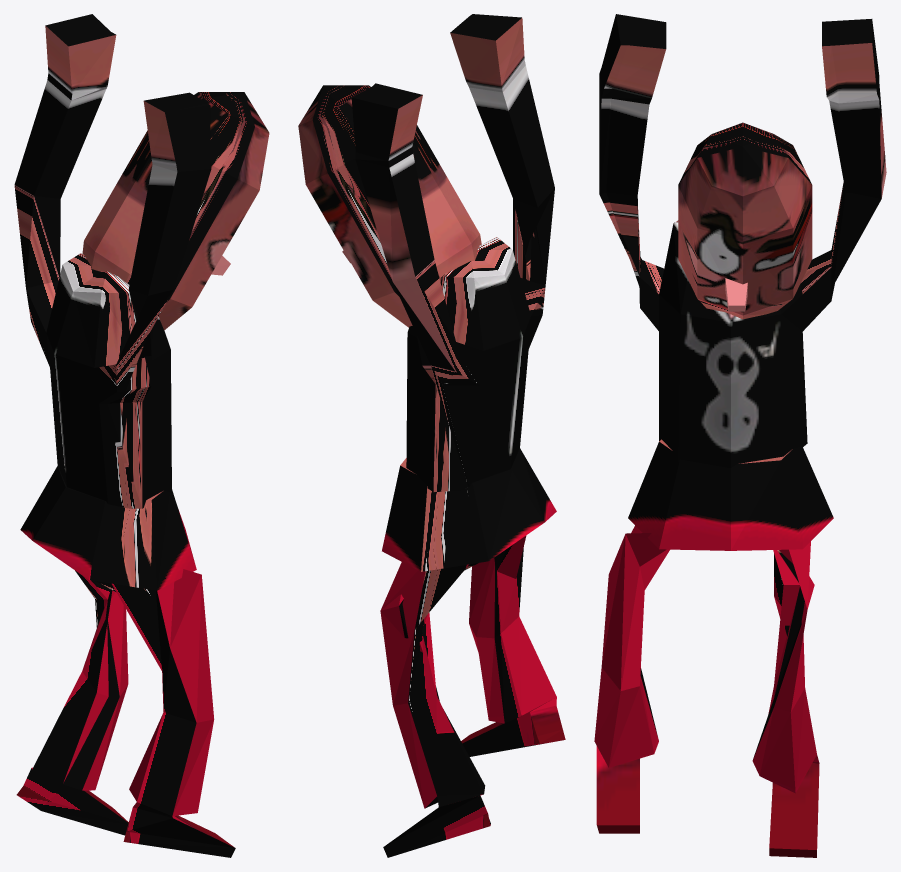
Rendered from BadLava1.glb.
The picture shows the model from 3 angles, left to right: view 1: azimuth 30°, elevation 25°; view 2: azimuth 150°, elevation 25°; view 3: azimuth 270°, elevation 25°; orthographic projection. The views are drawn at different scales.
Visible parts, largest first — view 1: BadLava1; view 2: BadLava1; view 3: BadLava1.
Part boxes in pixels (box(x1,y1,x2,y2)): BadLava1: box(14, 14, 269, 857); BadLava1: box(298, 14, 565, 857); BadLava1: box(594, 14, 886, 857).
Size of the model in its own units: 28.89 by 92.28 by 29.66.
1 material, 1 textured.
